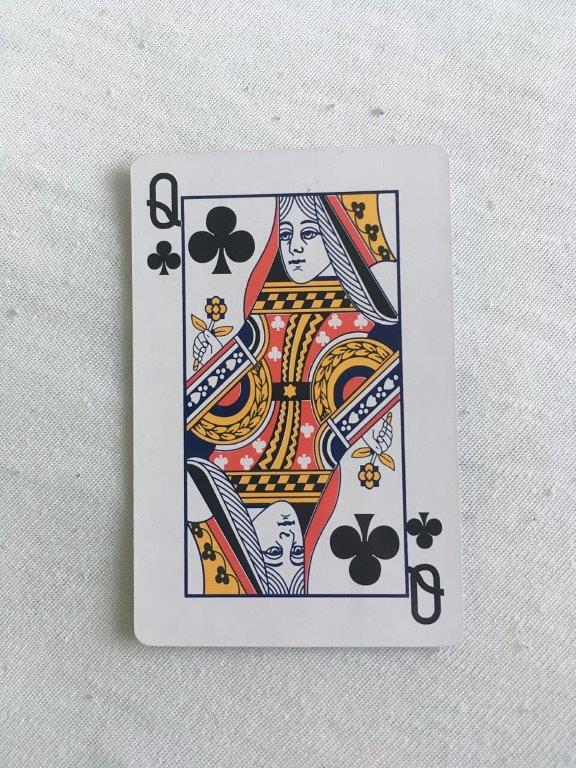QC: (126, 142, 470, 652)
